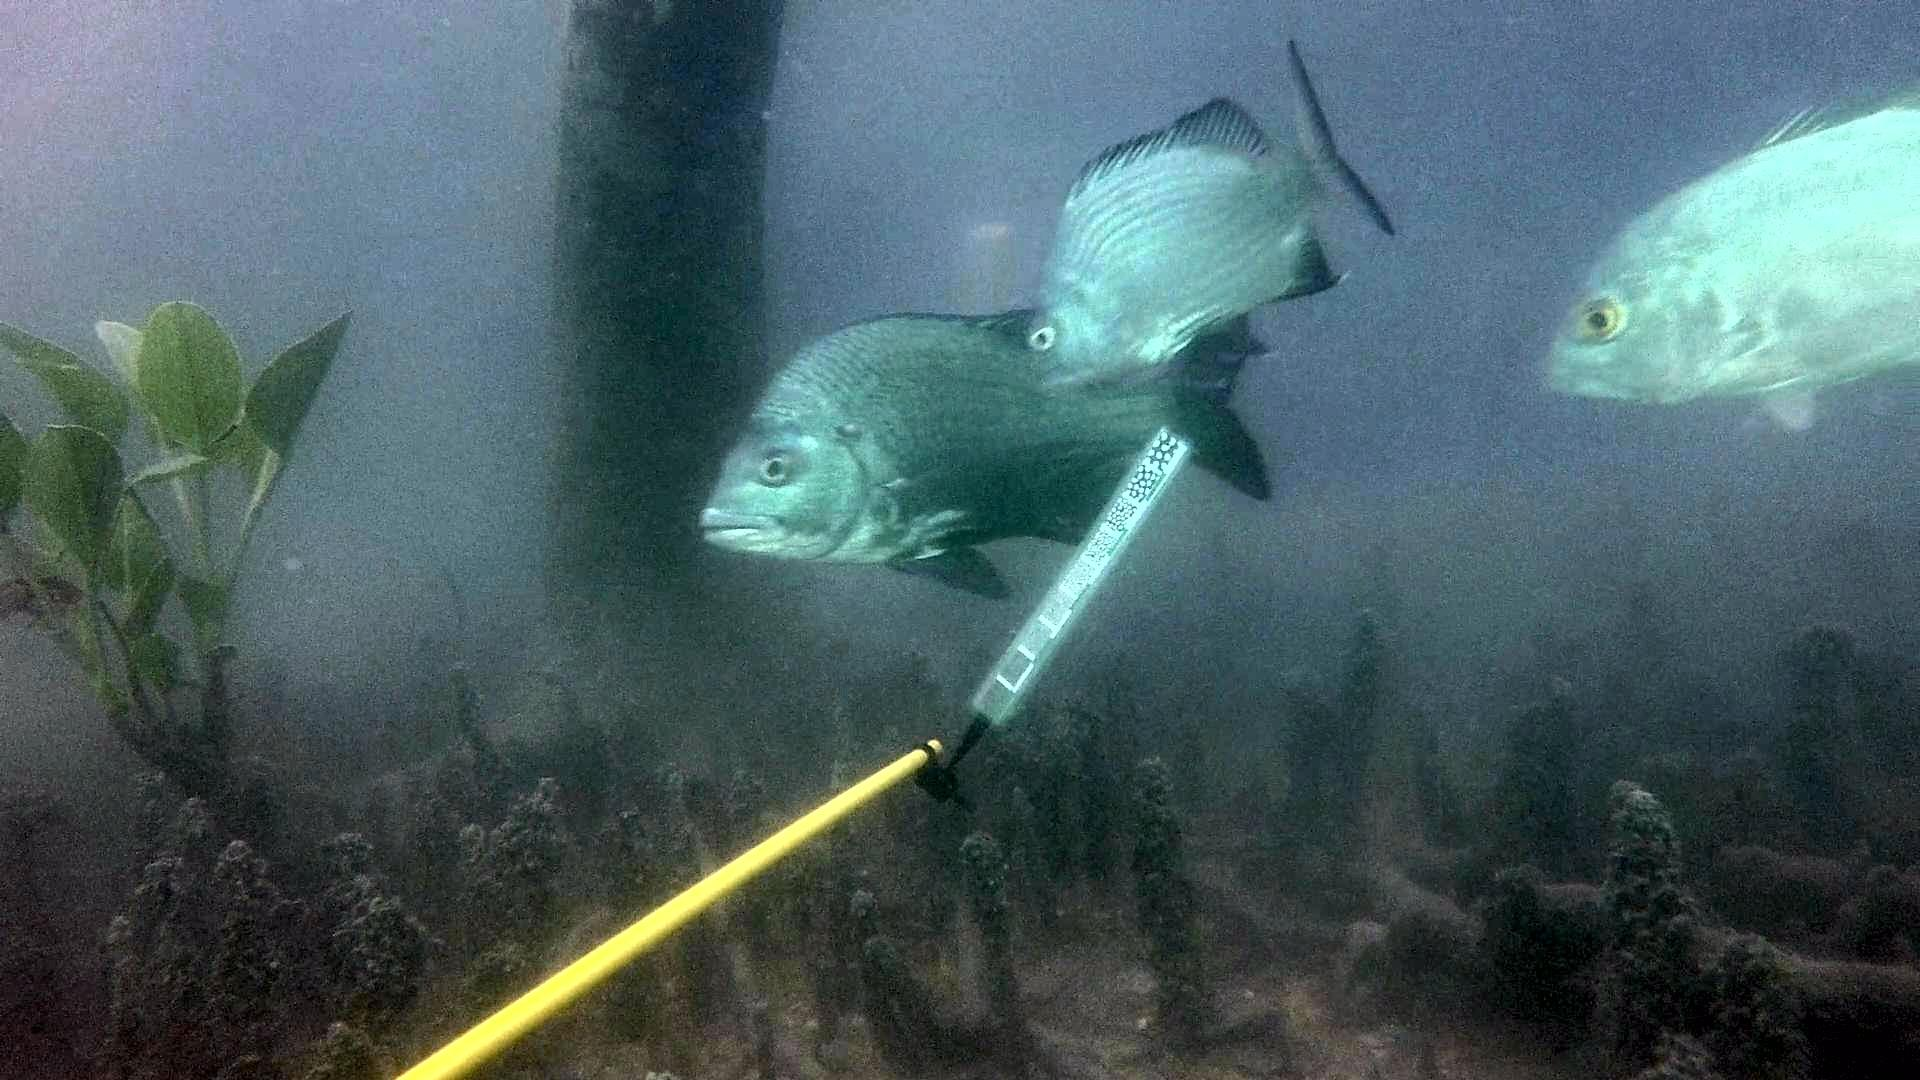acanthopagrus palmaris: (683, 295, 1288, 608), (1013, 25, 1404, 407)
caranx: (1526, 69, 1920, 451)
